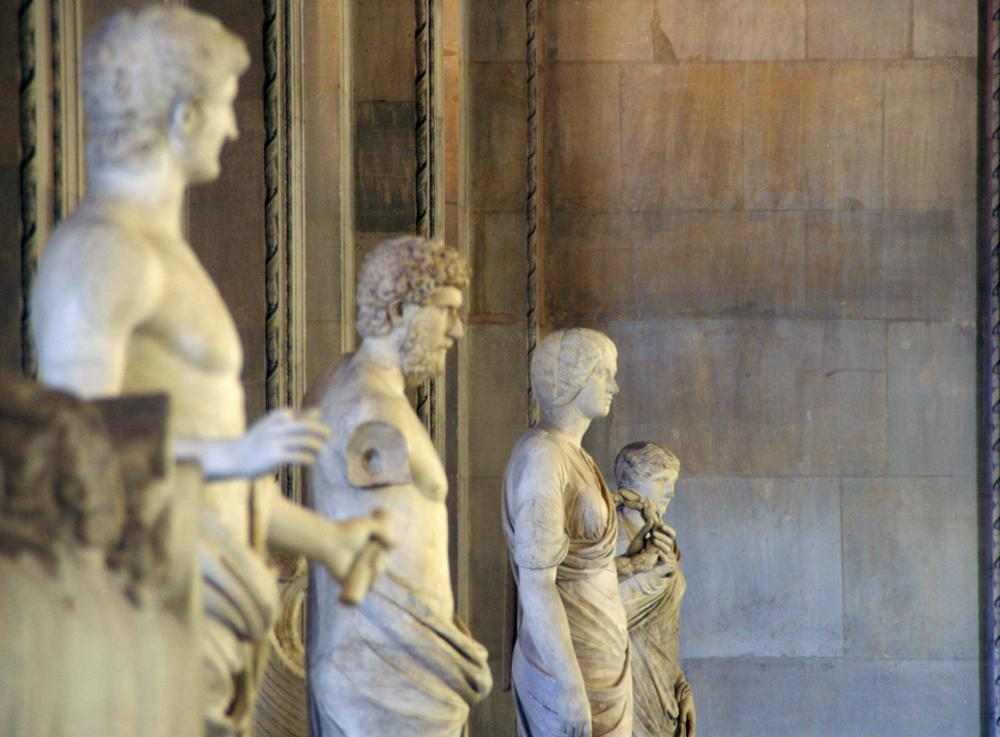person-like: (27, 1, 400, 737), (299, 229, 499, 737), (496, 321, 639, 737), (609, 437, 702, 737)
